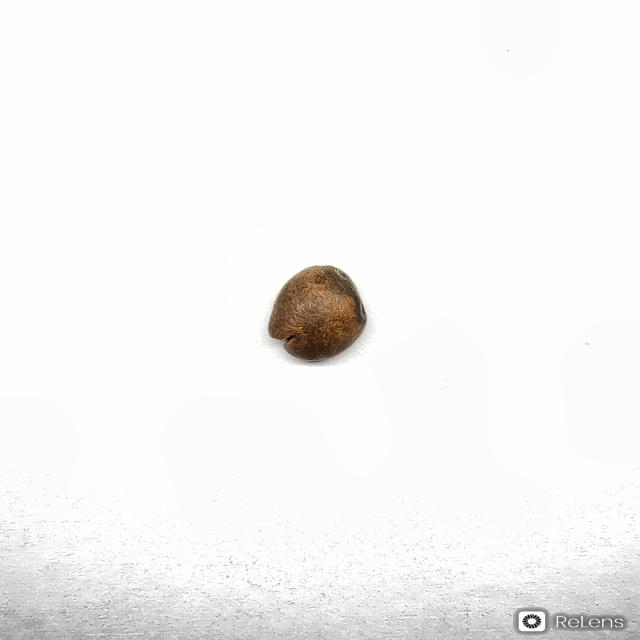Insect damage: (266, 264, 367, 362)
